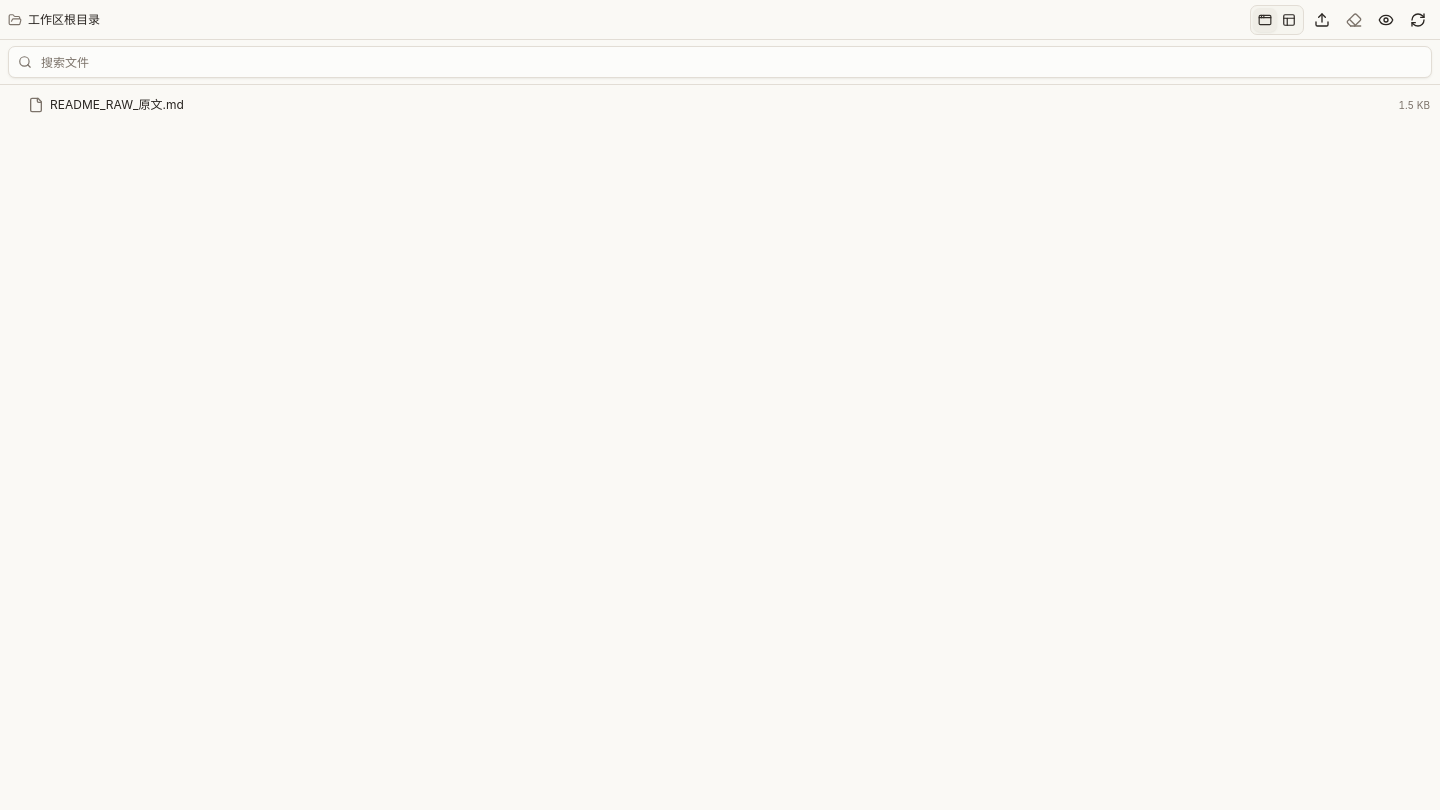
Test case: WorkspaceFilesTab › shows localized Chinese delete failure framing without raw non-Error text
The image size is (1440, 810).
Step 1. Right-click the list item "README_RAW_原文.md" → [720, 105], box [4,89,1436,121]
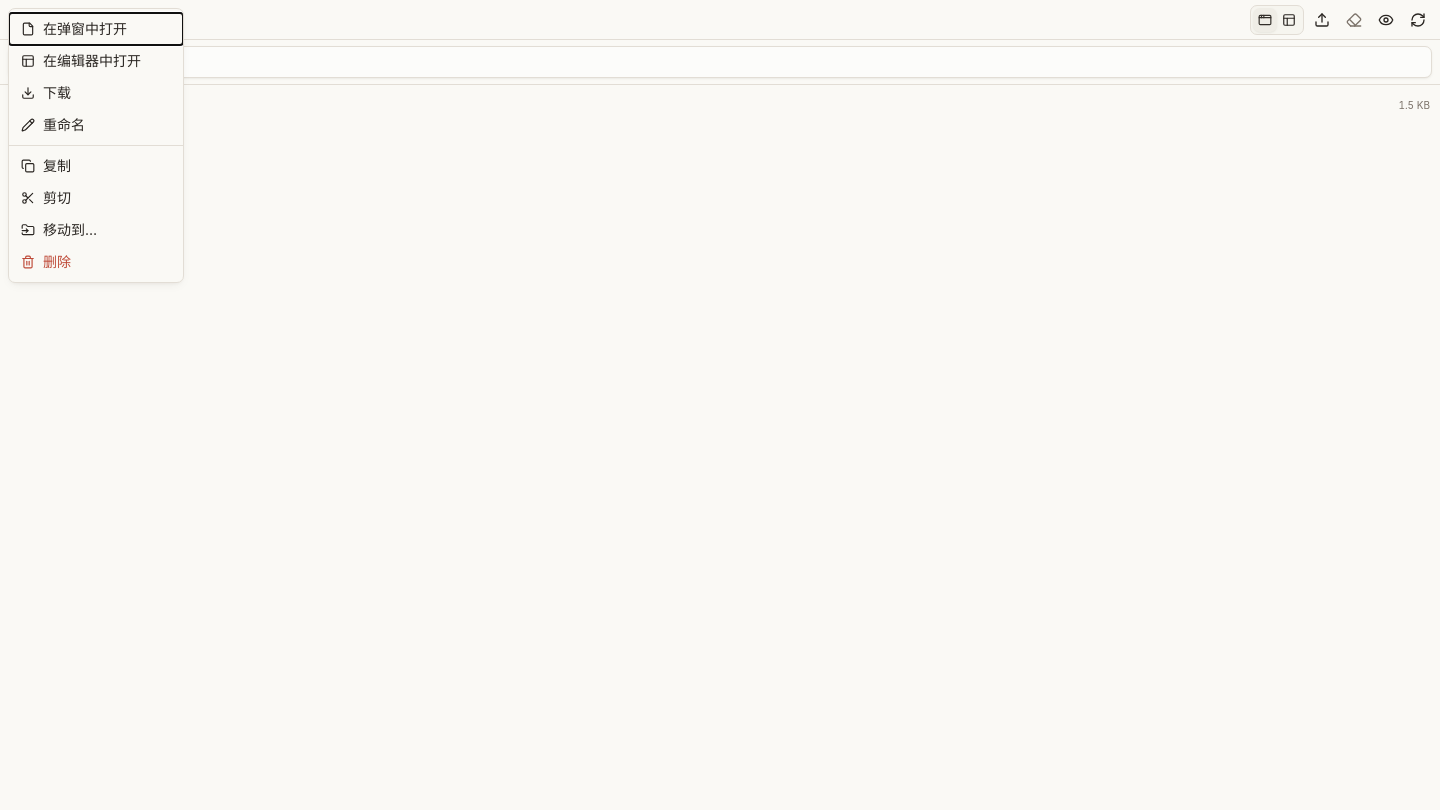
Step 2. Click the menu item "删除" → [96, 262], box [9,246,183,278]
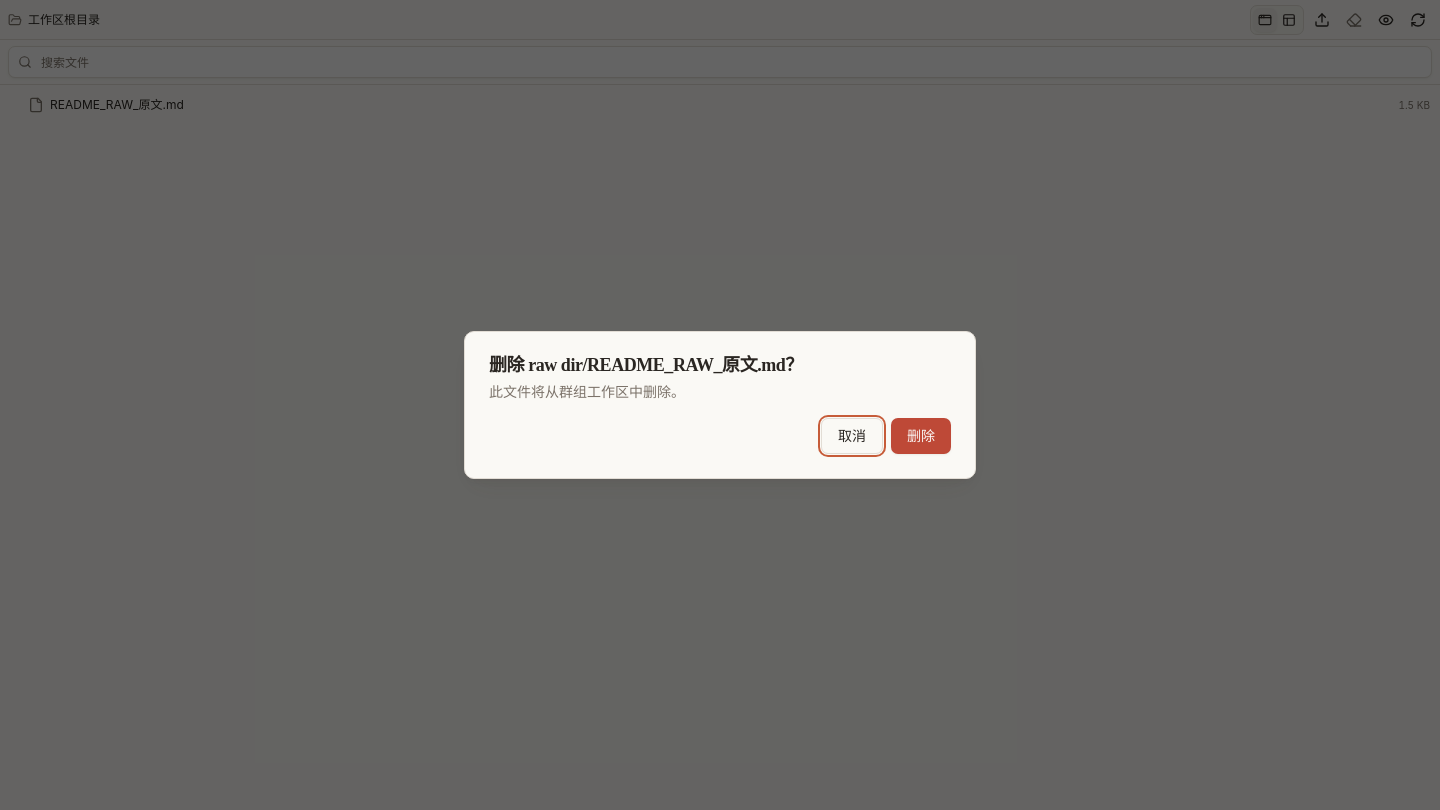
Step 3. Click the button "删除" → [921, 436], box [891,418,951,454]
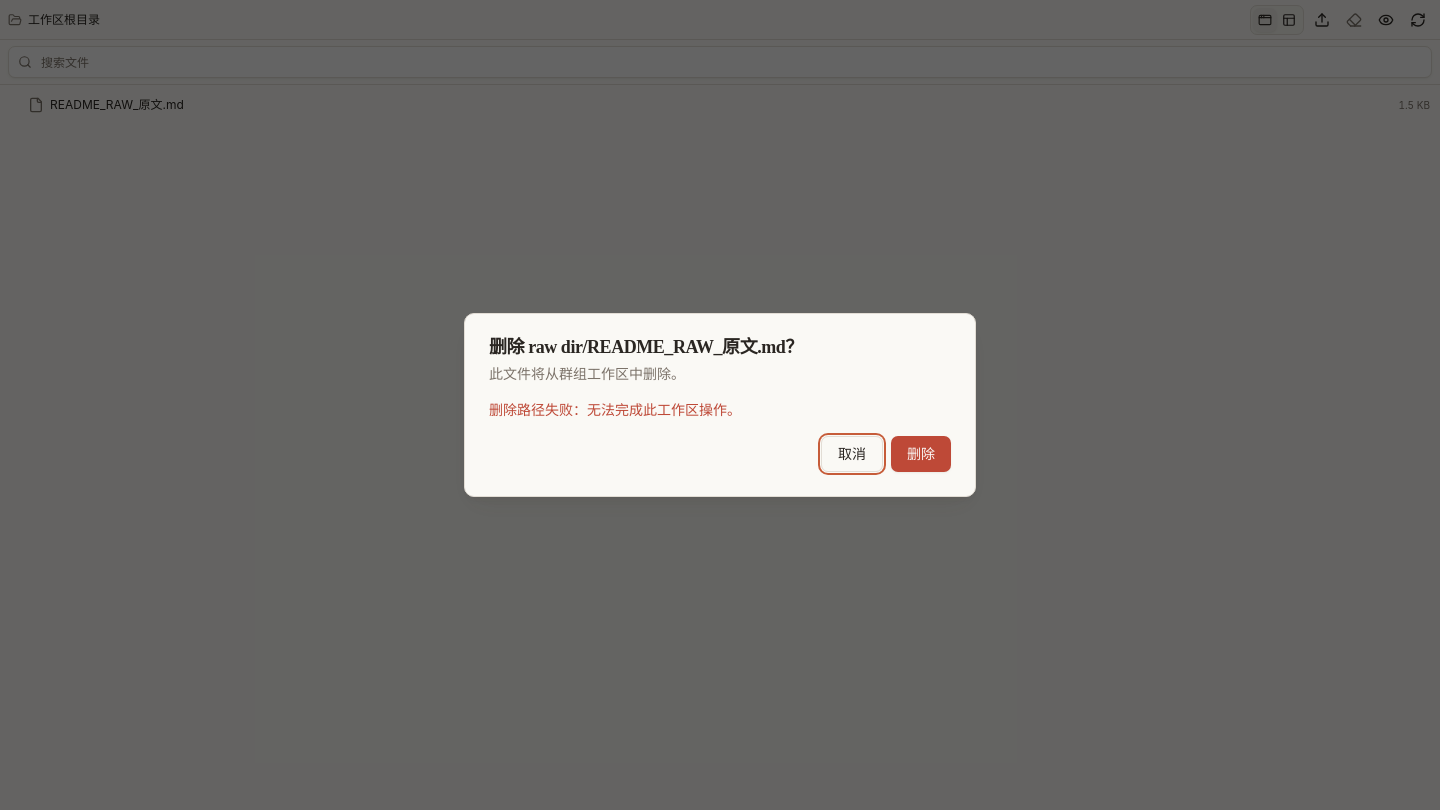
Expected: the message reads "删除路径失败：无法完成此工作区操作。", [489,401,741,418]
